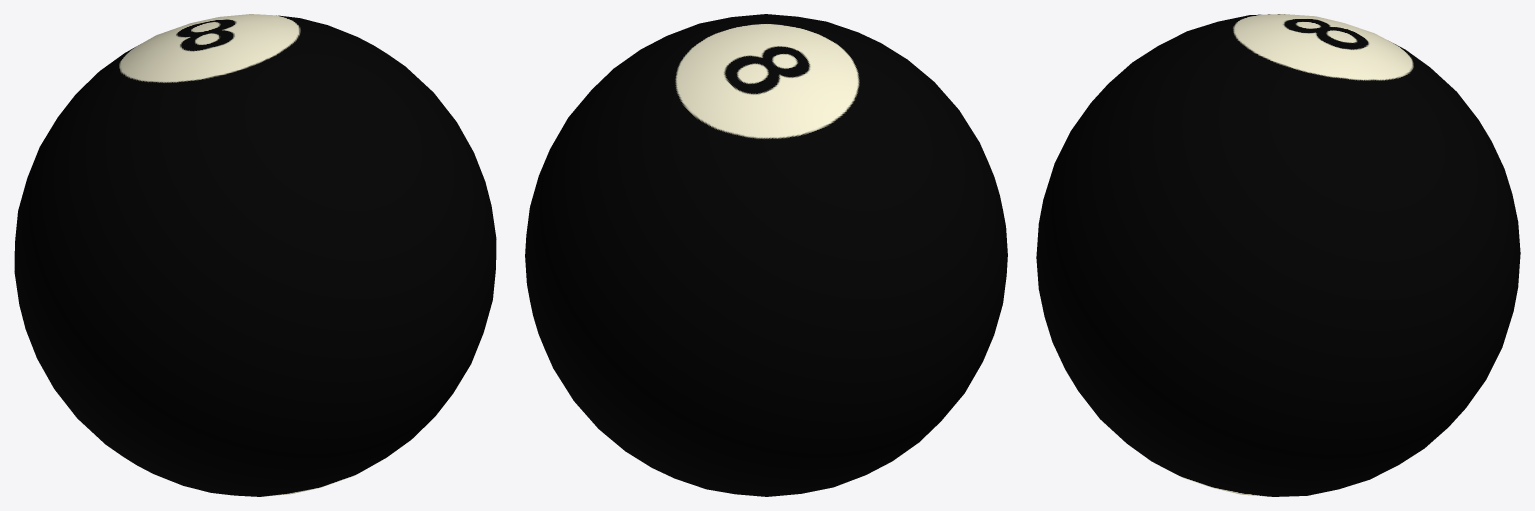
File: bola5.obj
3 renders of one model, left to right at view 1: azimuth 30°, elevation 25°; view 2: azimuth 150°, elevation 25°; view 3: azimuth 270°, elevation 25°, orthographic.
Visible parts, largest first — view 1: 8_Ball; view 2: 8_Ball; view 3: 8_Ball.
Part boxes in pixels (bbox=[...]): 8_Ball: bbox=[14, 14, 496, 496]; 8_Ball: bbox=[525, 14, 1007, 496]; 8_Ball: bbox=[1036, 14, 1520, 496].
Bounding box in the file's own units: 0.0509 × 0.0509 × 0.051.
Materials: 1 (1 with a texture image).
